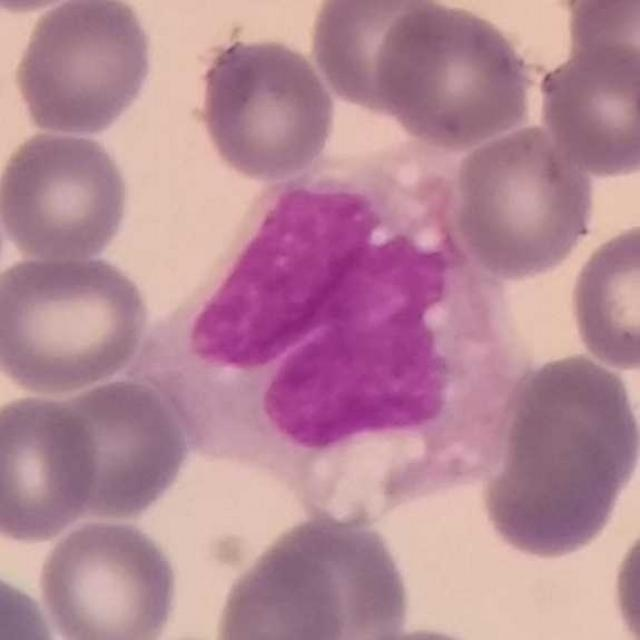Monocyte: (150, 157, 533, 524)
RBC: (475, 403, 631, 564), (373, 0, 539, 151), (233, 507, 415, 639), (448, 122, 599, 280), (495, 350, 640, 508), (0, 250, 152, 396), (192, 32, 338, 183), (44, 375, 192, 523), (10, 0, 157, 138), (34, 515, 182, 640), (0, 126, 134, 264), (306, 0, 451, 117), (0, 391, 101, 544), (534, 40, 640, 178), (210, 542, 350, 640), (564, 219, 640, 373), (560, 0, 640, 95), (606, 507, 640, 640), (0, 565, 59, 640)
